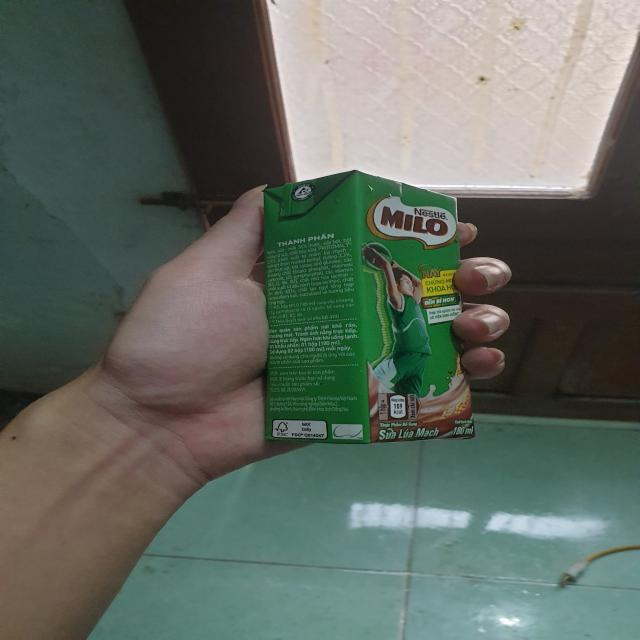Milo: (262, 169, 480, 446)
